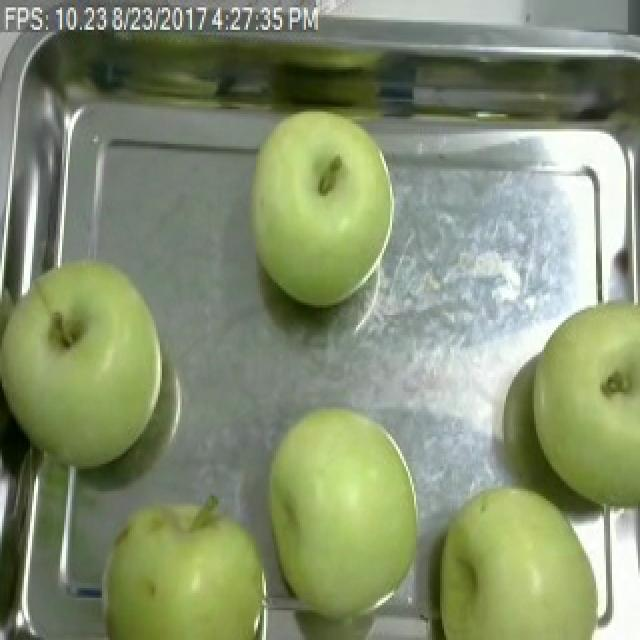50-_ripeness: (234, 387, 436, 616), (9, 231, 175, 482), (258, 94, 400, 319), (80, 489, 279, 640), (426, 487, 607, 633), (517, 303, 640, 515)
